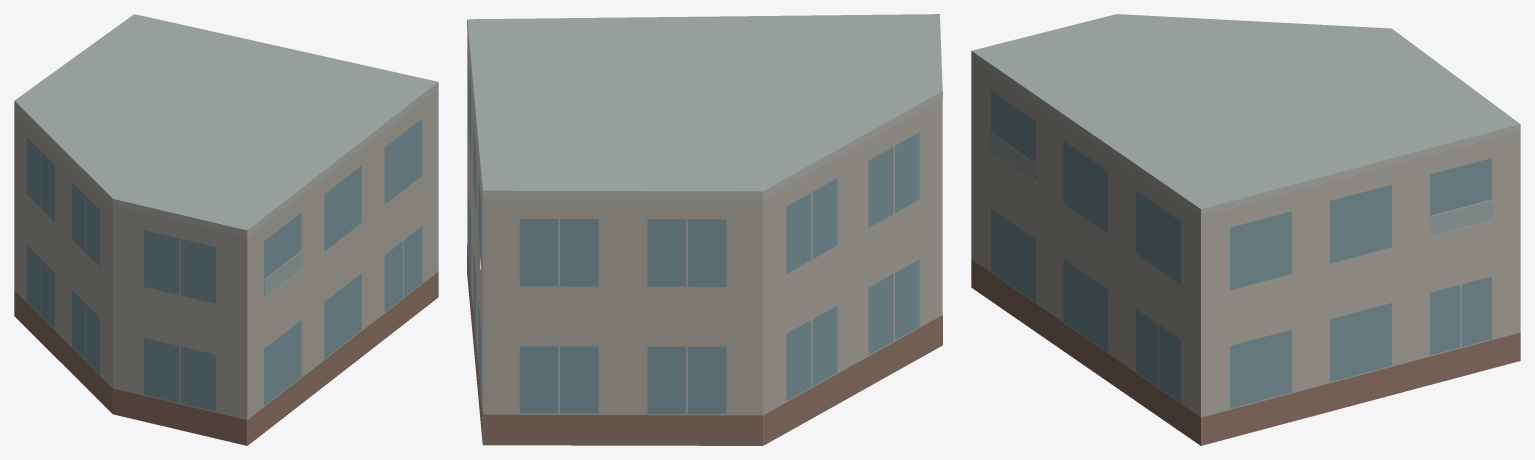
The model's file is survey-upis-32631165.glb.
3 renders of one model, left to right at view 1: azimuth 30°, elevation 25°; view 2: azimuth 150°, elevation 25°; view 3: azimuth 270°, elevation 25°, orthographic. The views are drawn at different scales.
Parts seen in each view (by area): view 1: survey-upis-32631165.tmp; view 2: survey-upis-32631165.tmp; view 3: survey-upis-32631165.tmp.
Part boxes in pixels (left/top/right/bottom): survey-upis-32631165.tmp: left=14, top=14, right=438, bottom=445; survey-upis-32631165.tmp: left=467, top=14, right=942, bottom=445; survey-upis-32631165.tmp: left=971, top=14, right=1520, bottom=445.
Size of the model in its own units: 13.98 by 7.9 by 16.63.
